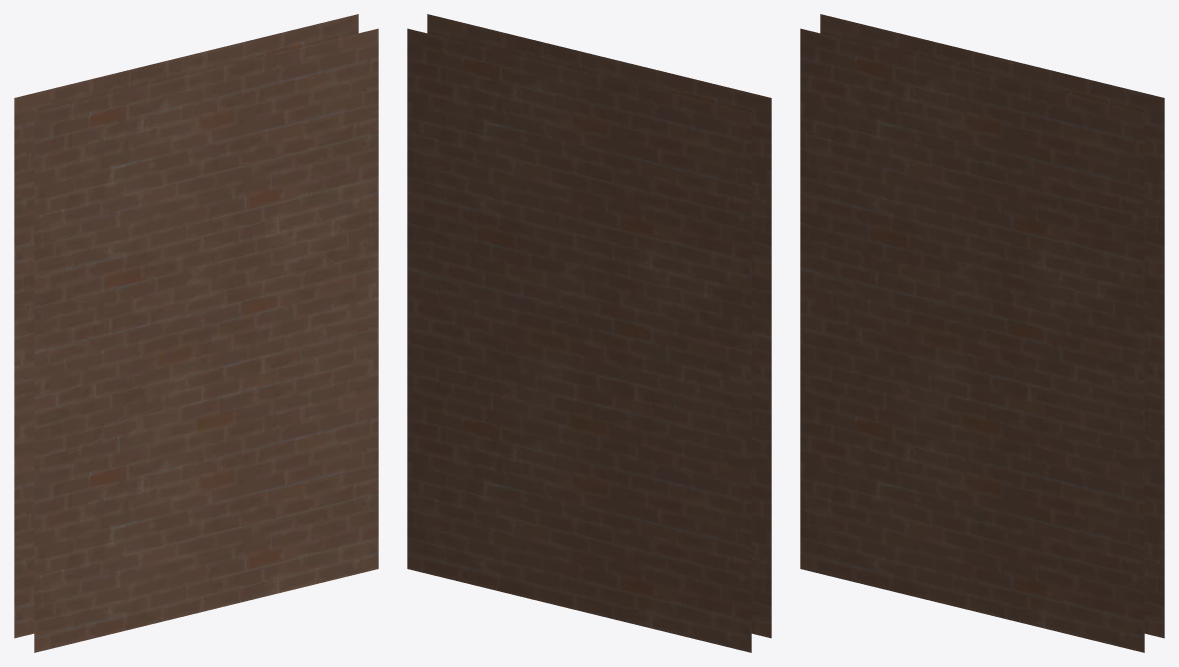
The model's file is Brick_Plain_3.glb.
The picture shows the model from 3 angles, left to right: view 1: azimuth 30°, elevation 25°; view 2: azimuth 150°, elevation 25°; view 3: azimuth 330°, elevation 25°; orthographic projection.
Visible parts, largest first — view 1: Brick_Plain_3; view 2: Brick_Plain_3; view 3: Brick_Plain_3.
Boxes of the visible parts, x1,y1,x2,y2 form: Brick_Plain_3: (14, 14, 378, 652); Brick_Plain_3: (407, 14, 771, 652); Brick_Plain_3: (800, 14, 1164, 652).
Bounding box in the file's own units: 2 × 3 × 0.2.
1 material, 1 textured.
